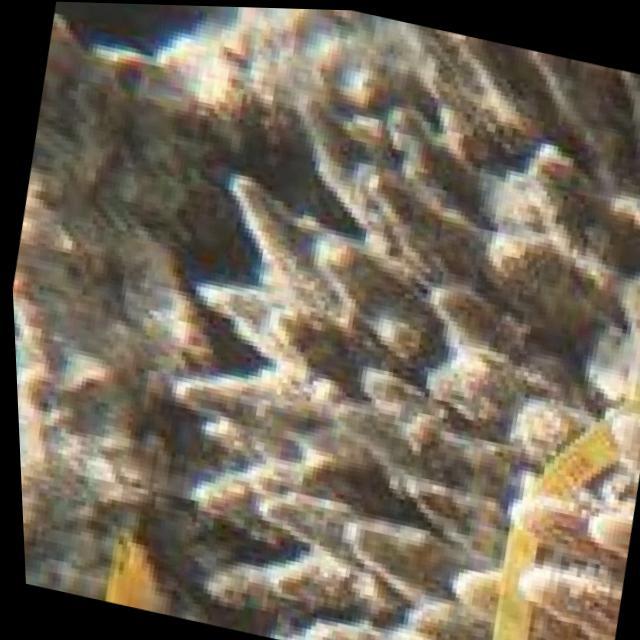Healthy Coral: (445, 452, 639, 640)
